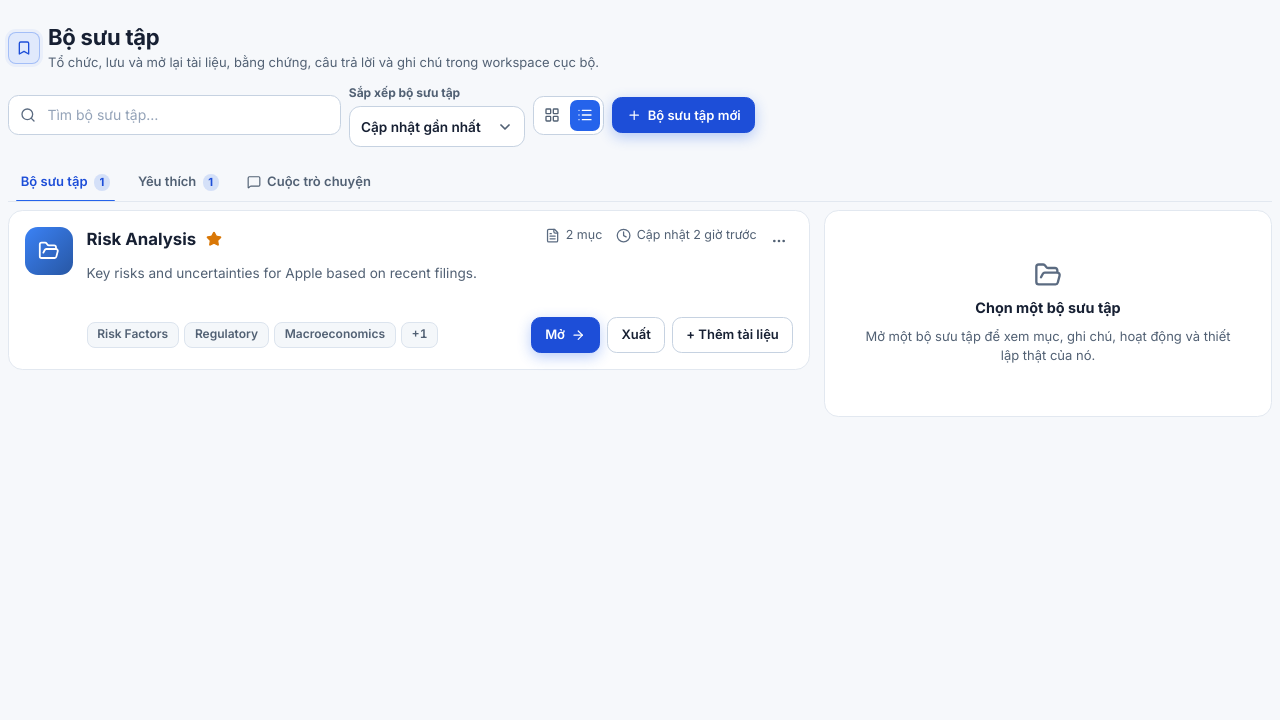
Test: CollectionsWorkspace › the shared confirmation has Vietnamese labels and consequences
This screenshot has width=1280, height=720.
Click the button named "Hành động cho Risk Analysis": [779, 241] box [765,227,793,256]
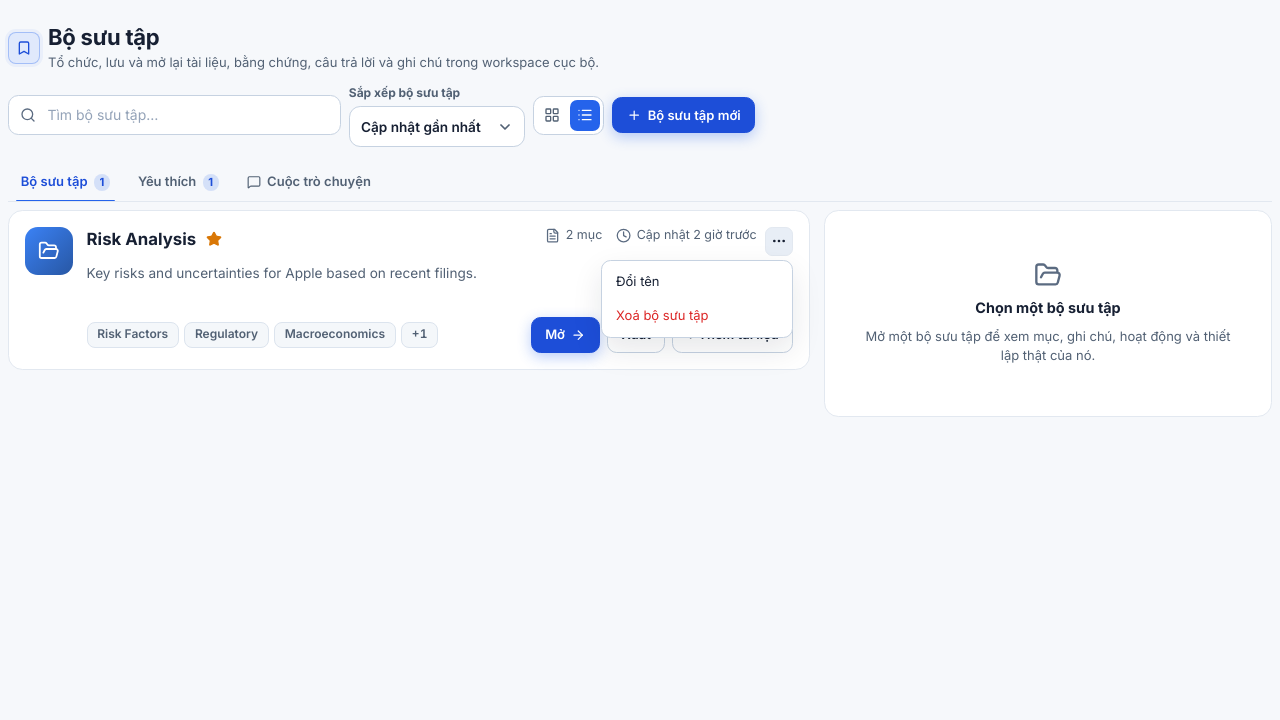
Click the menu item "Xoá bộ sưu tập": [697, 316] box [606,299,788,333]
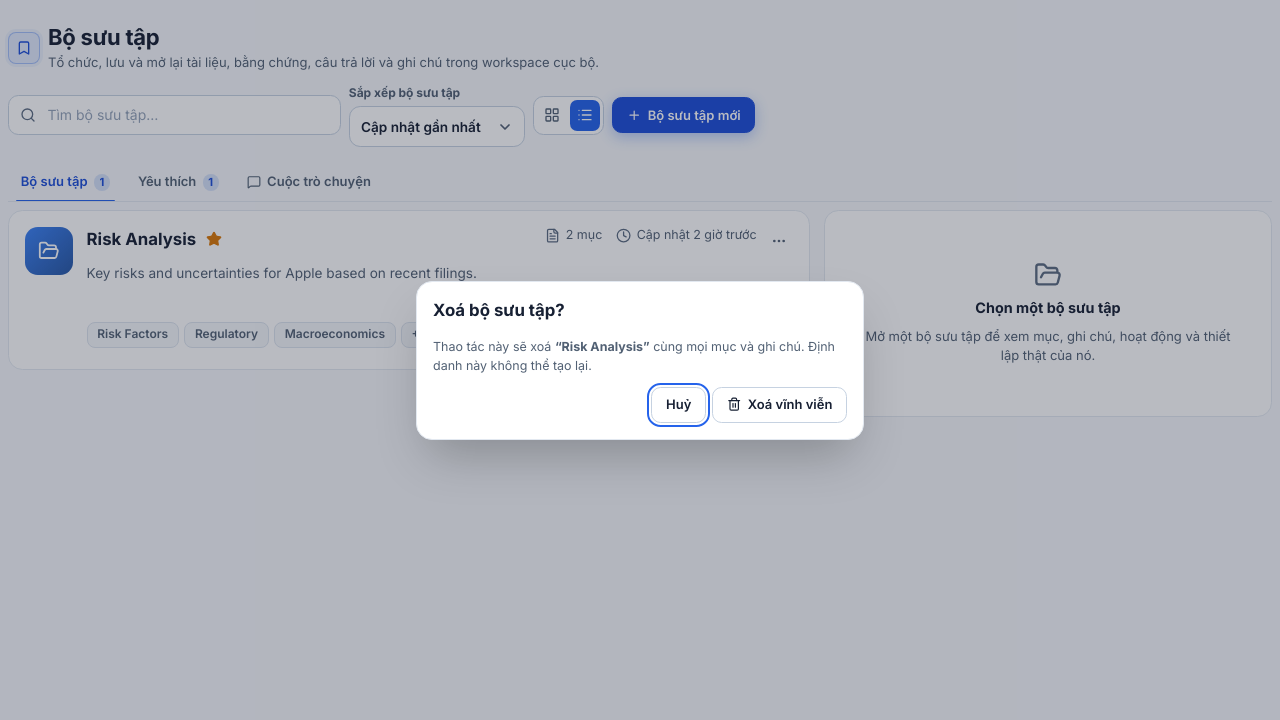
expect the text "không thể tạo lại" is shown: met, box [433,339,835,373]
expect the button "Xoá vĩnh viễn" is shown: met, box [712,386,847,422]
